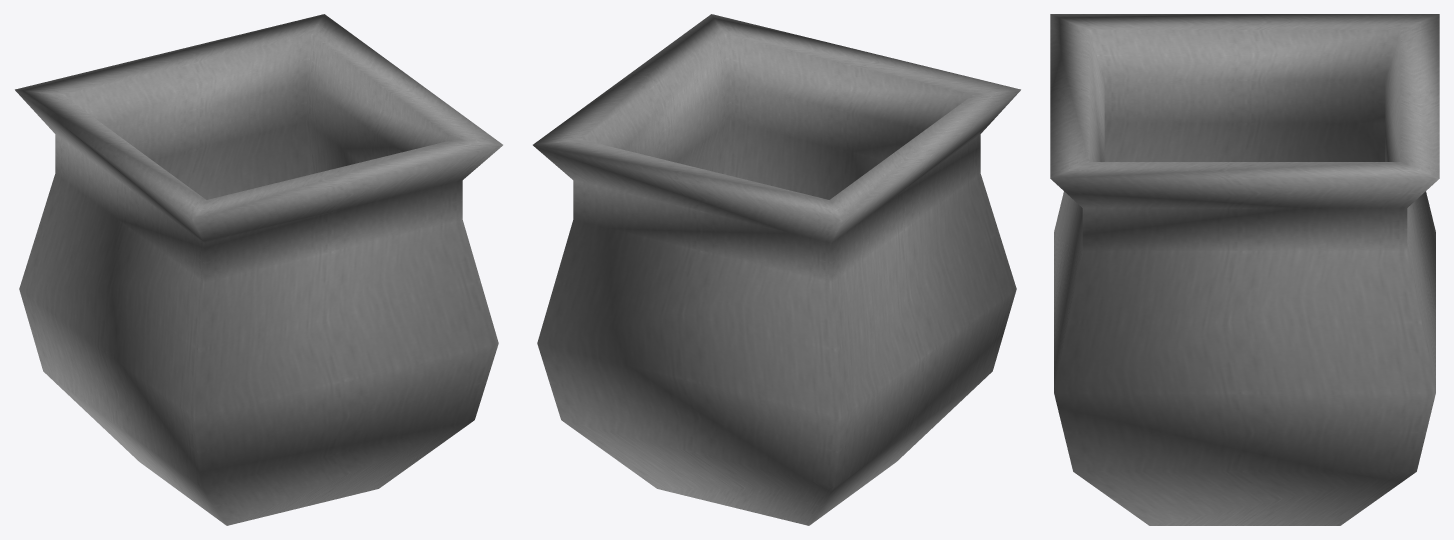
Rendered from cauldron.glb.
3 views of the same model, side by side, from view 1: azimuth 30°, elevation 25°; view 2: azimuth 150°, elevation 25°; view 3: azimuth 270°, elevation 25° (orthographic). The views are drawn at different scales.
Visible parts, largest first — view 1: Cauldron; view 2: Cauldron; view 3: Cauldron.
Boxes of the visible parts, <box> form: Cauldron: <box>15,14,502,525</box>; Cauldron: <box>533,14,1020,525</box>; Cauldron: <box>1050,14,1439,525</box>.
Bounding box in the file's own units: 0.816 × 0.9 × 0.816.
Materials: 1 (1 with a texture image).
